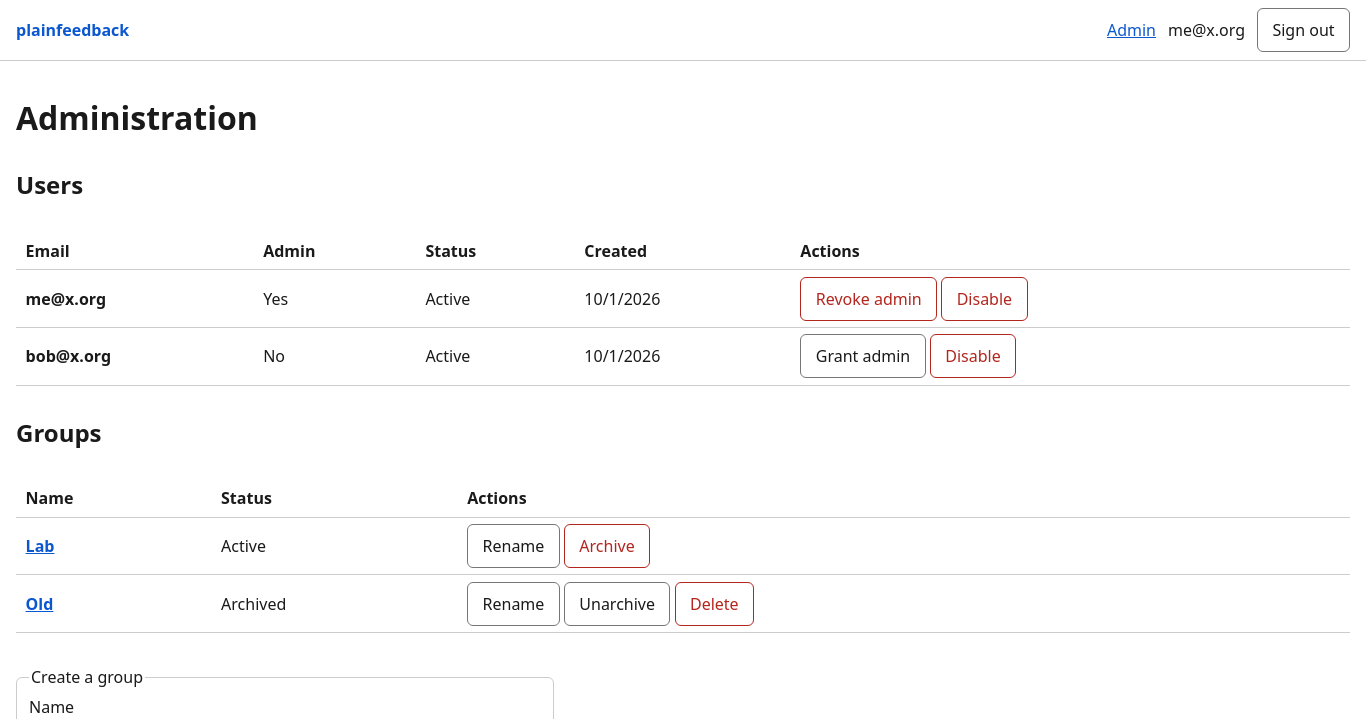
it: admin › grants admin, and explains a last-admin 409
The width and height of the screenshot is (1366, 719).
Expected: the table named "Users who have signed in" is shown, top-left (16, 232), bottom-right (1350, 386)
Expected: the link "Admin" is shown, top-left (1107, 18), bottom-right (1156, 42)
Click the button with aria-label "Grant admin bob@x.org": coordinates (863, 356) top-left (800, 334), bottom-right (926, 378)
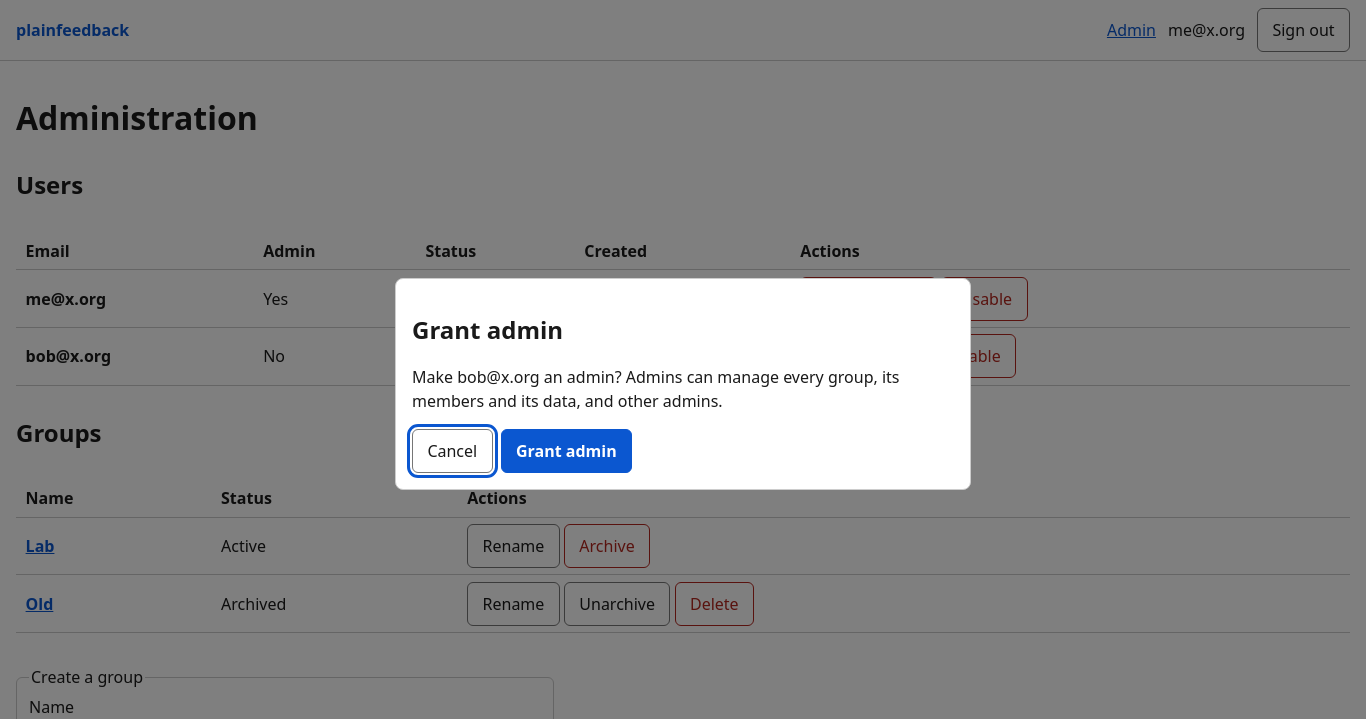
Click the 2nd button "Grant admin": coordinates (566, 451) top-left (501, 429), bottom-right (632, 473)
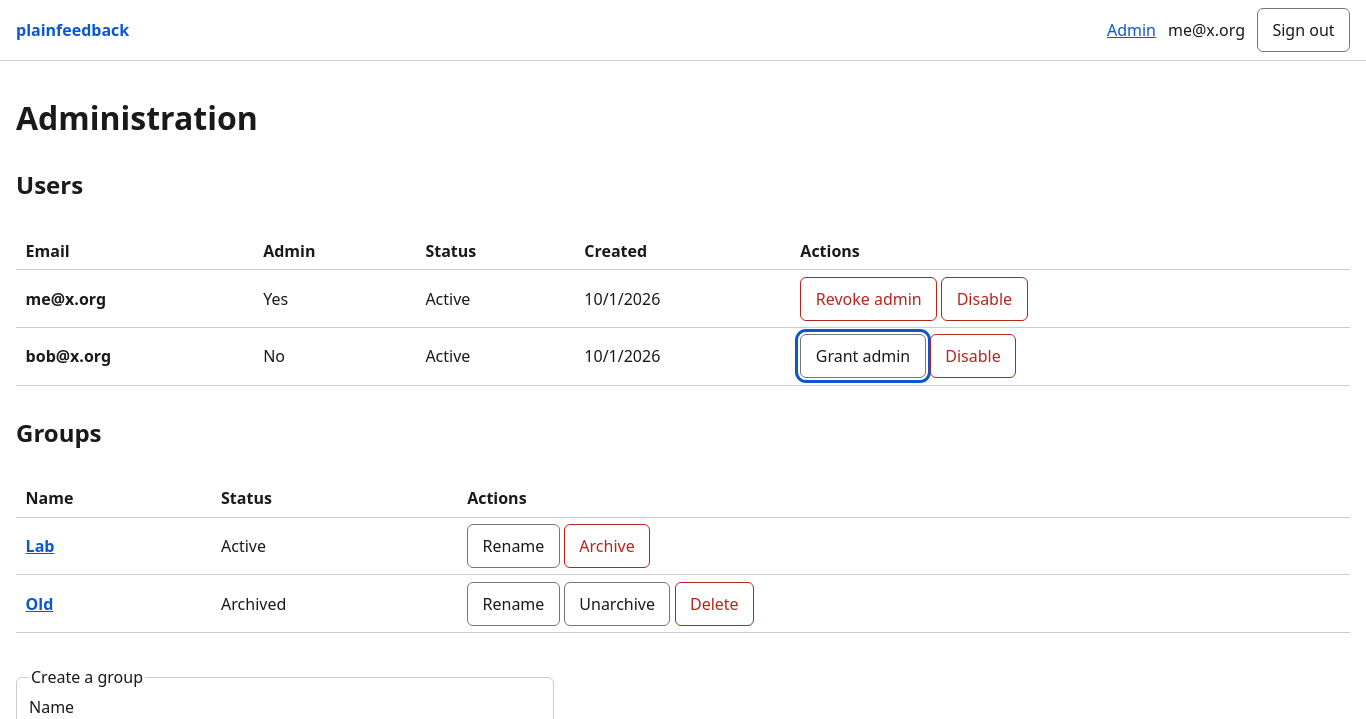
Click the button with aria-label "Revoke admin me@x.org": coordinates (869, 299) top-left (800, 277), bottom-right (937, 321)
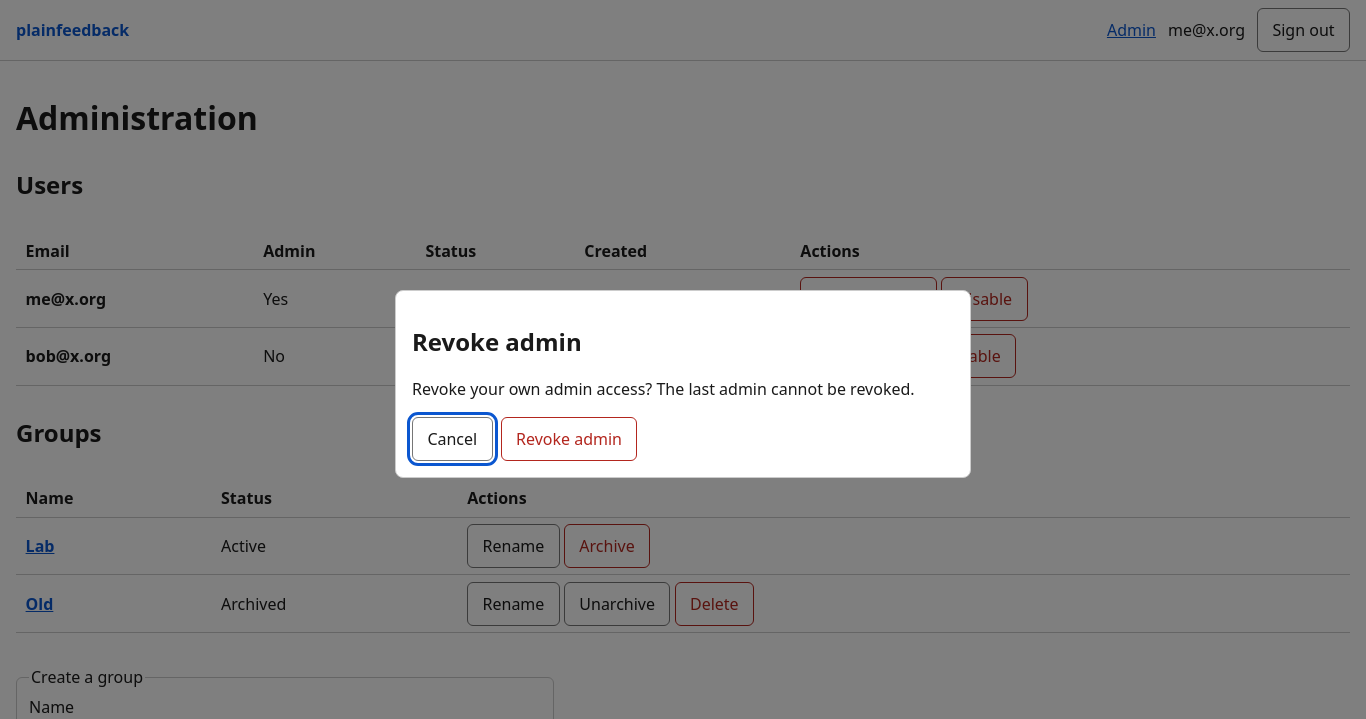
Click the button "Revoke admin" below "Revoke your own admin access": coordinates (569, 439) top-left (501, 417), bottom-right (637, 461)
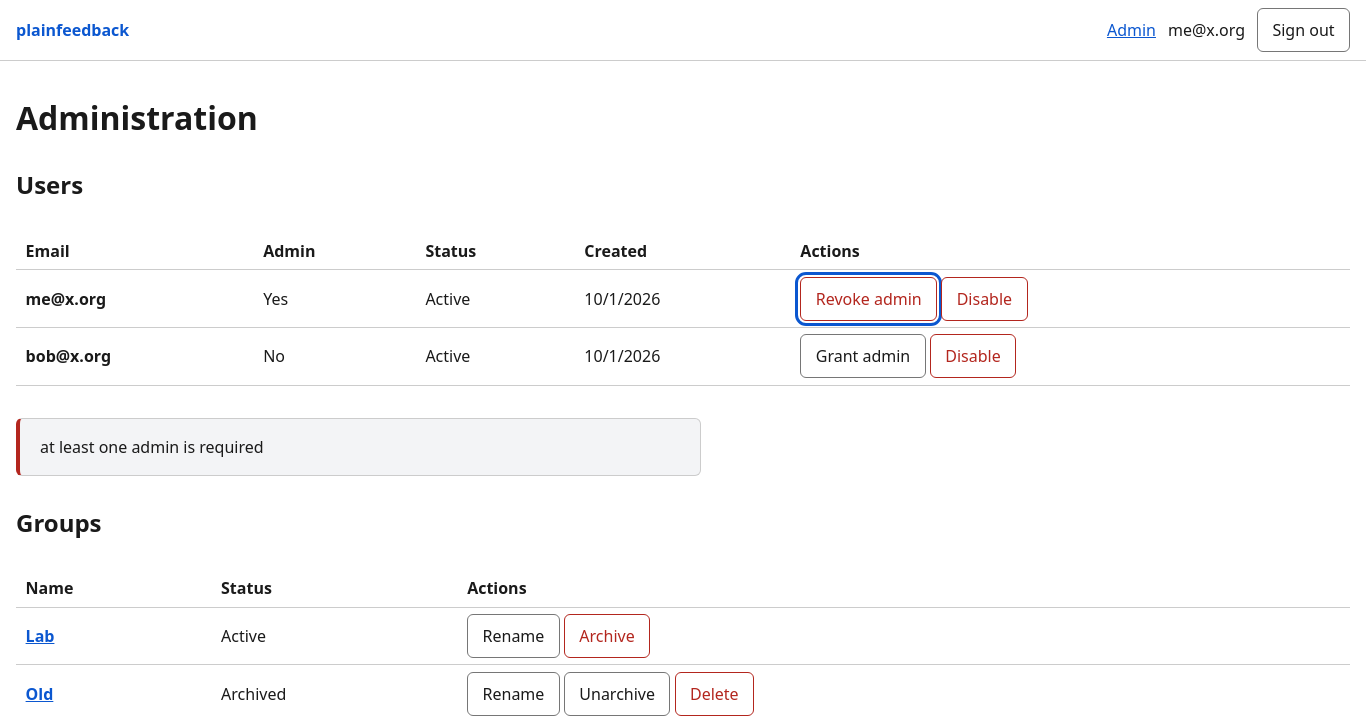
Expected: the text "at least one admin is required" is shown, top-left (16, 418), bottom-right (701, 476)
